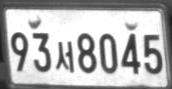0: (99, 32, 118, 74)
3: (32, 32, 51, 73)
4: (121, 32, 141, 74)
5: (143, 34, 163, 75)
8: (76, 32, 97, 73)
9: (10, 31, 29, 71)
서: (55, 41, 74, 73)
